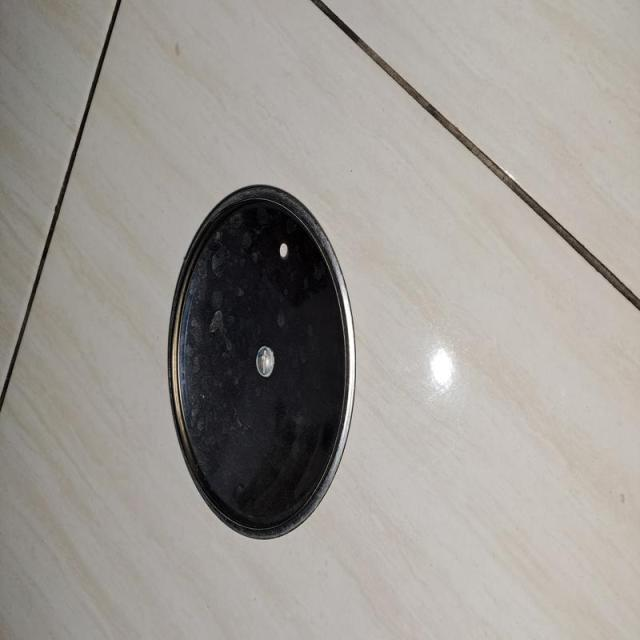Anorganik: (155, 175, 364, 550)
